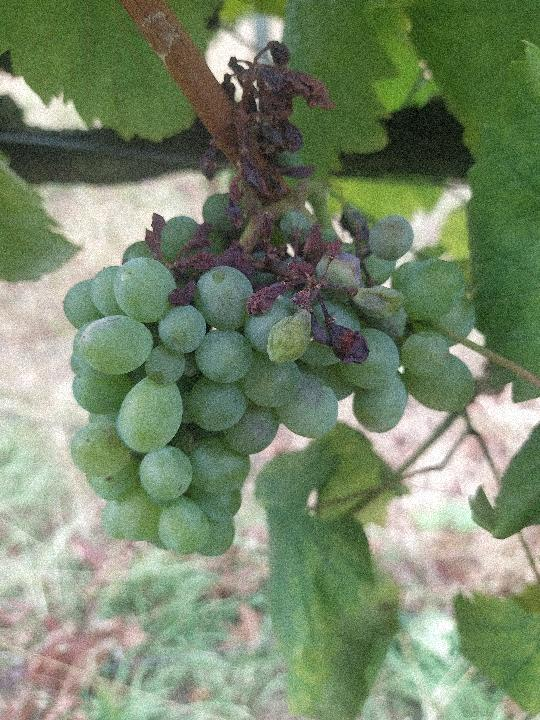grape: (60, 37, 477, 560)
